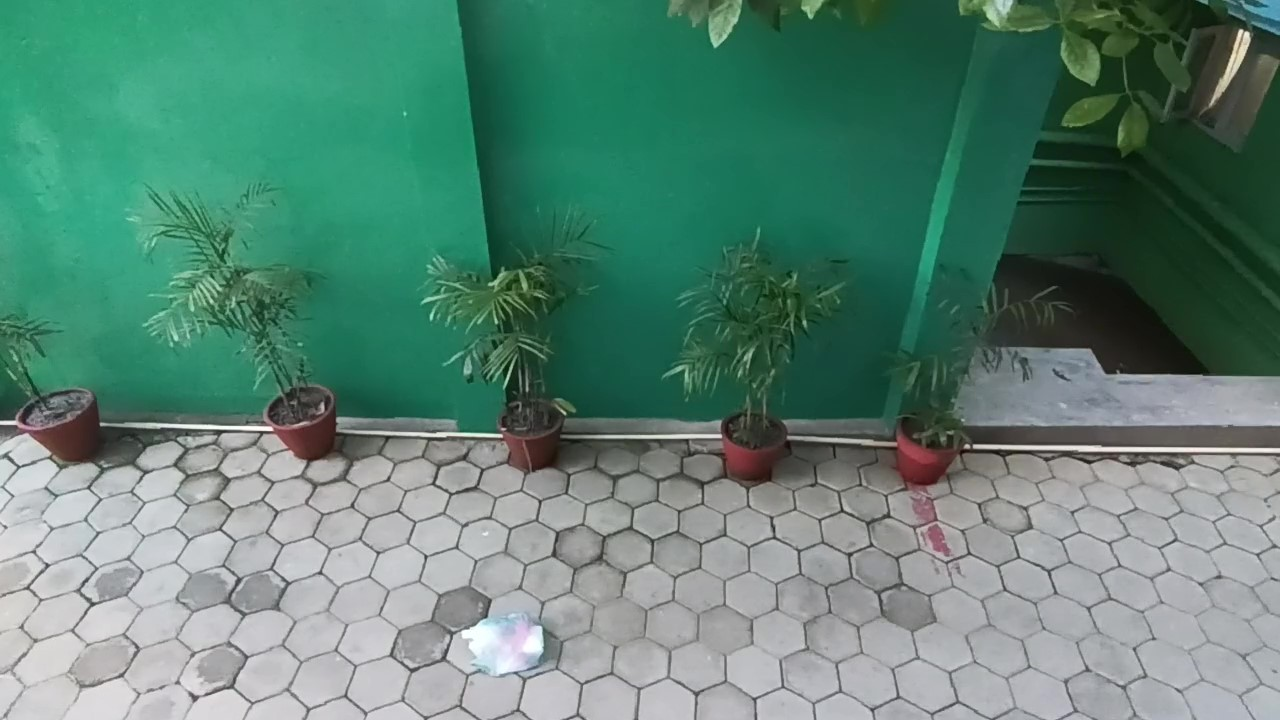thrownwaste: (434, 613, 581, 691)
